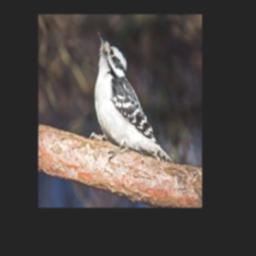Woodpecker: (87, 29, 173, 163)
